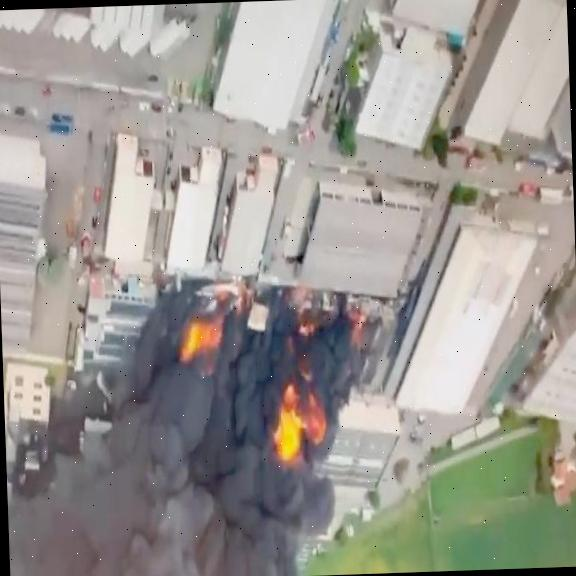smoke: (4, 389, 283, 576), (219, 294, 294, 386)
